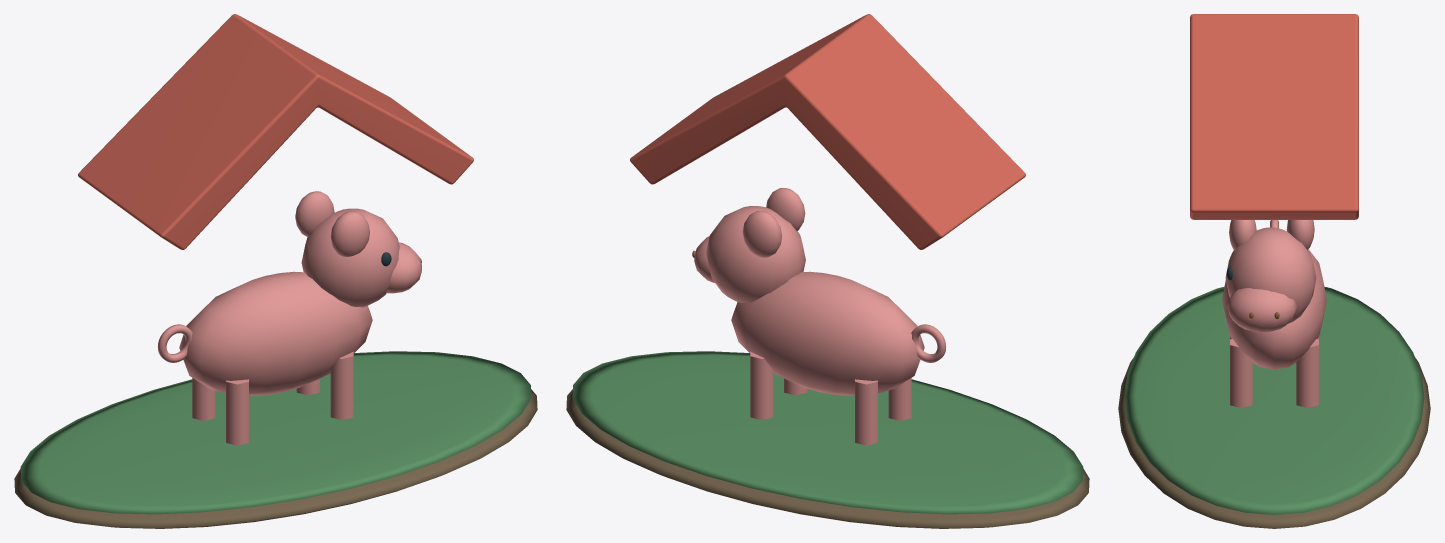
File: pig-home.glb
3 renders of one model, left to right at view 1: azimuth 30°, elevation 25°; view 2: azimuth 150°, elevation 25°; view 3: azimuth 270°, elevation 25°, orthographic.
Parts seen in each view (by area): view 1: pig-home_surface_01, pig-home_surface_02, pig-home_surface_03, pig-home_surface_00; view 2: pig-home_surface_01, pig-home_surface_02, pig-home_surface_03, pig-home_surface_00; view 3: pig-home_surface_01, pig-home_surface_02, pig-home_surface_03, pig-home_surface_00.
Part boxes in pixels (box(x1,y1,x2,y2)): pig-home_surface_01: box(20, 351, 531, 514); pig-home_surface_02: box(78, 14, 473, 249); pig-home_surface_03: box(158, 191, 421, 445); pig-home_surface_00: box(14, 389, 537, 528); pig-home_surface_01: box(572, 351, 1083, 514); pig-home_surface_02: box(630, 14, 1025, 249); pig-home_surface_03: box(694, 188, 945, 445); pig-home_surface_00: box(566, 389, 1089, 528); pig-home_surface_01: box(1124, 287, 1424, 514); pig-home_surface_02: box(1190, 14, 1358, 219); pig-home_surface_03: box(1222, 220, 1326, 407); pig-home_surface_00: box(1118, 357, 1430, 528).
Size of the model in its own units: 4.56 by 3.61 by 2.5.
